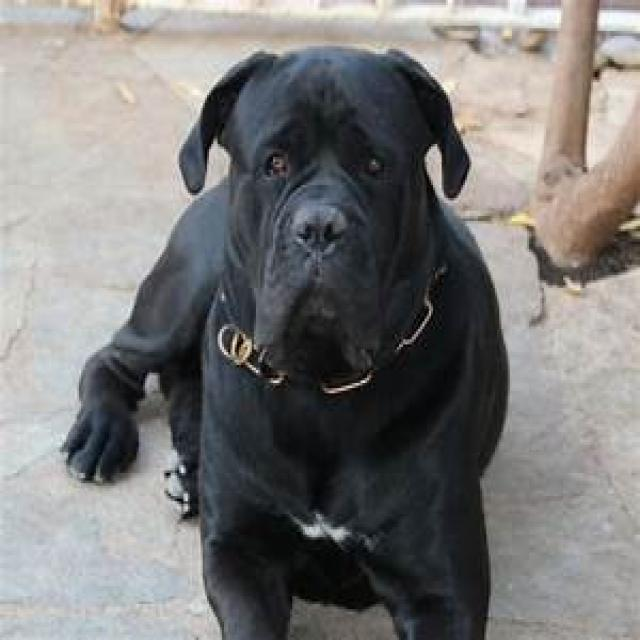dog: (64, 48, 509, 639)
